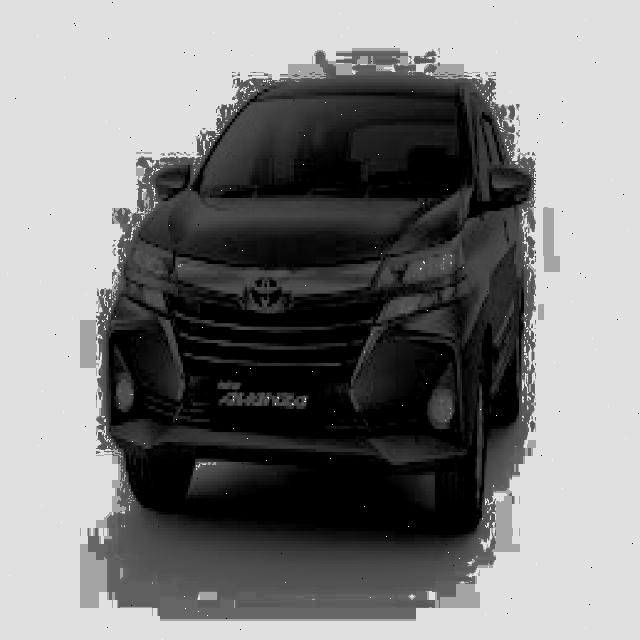Car: (115, 54, 540, 570)
